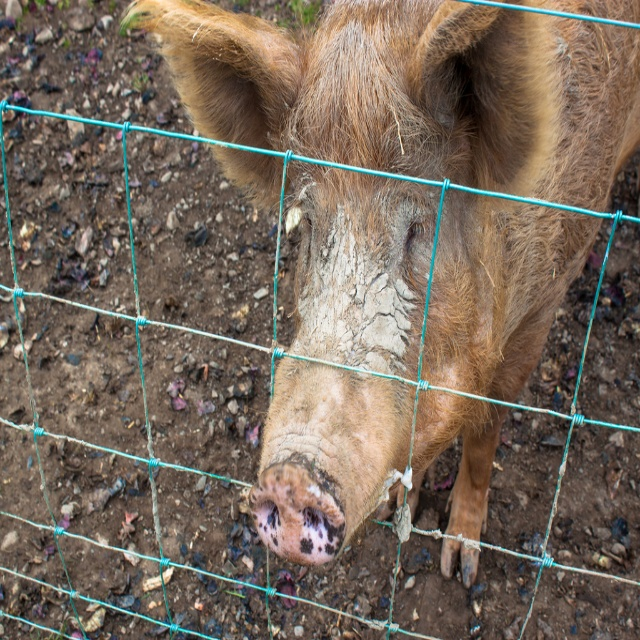Pig: (120, 0, 640, 590)
